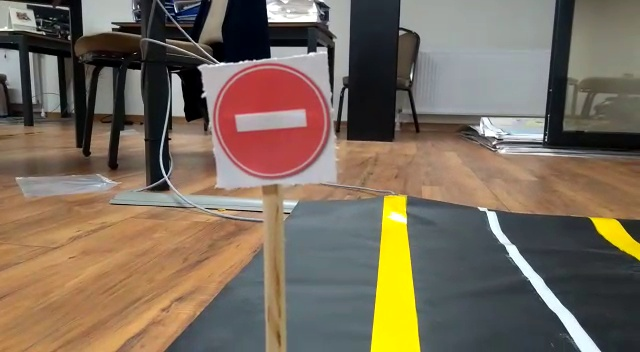girisi_olmayan_yol: (208, 62, 329, 185)
